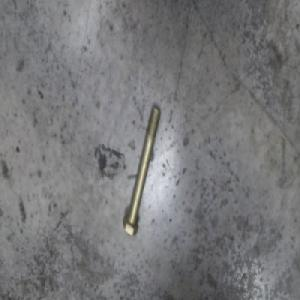Bolt: (122, 98, 161, 238)
